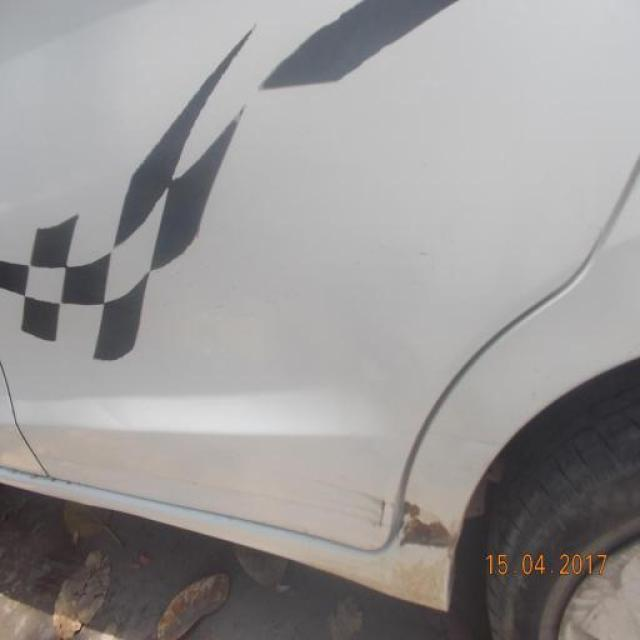scratch: (82, 460, 393, 532), (398, 498, 459, 570)
